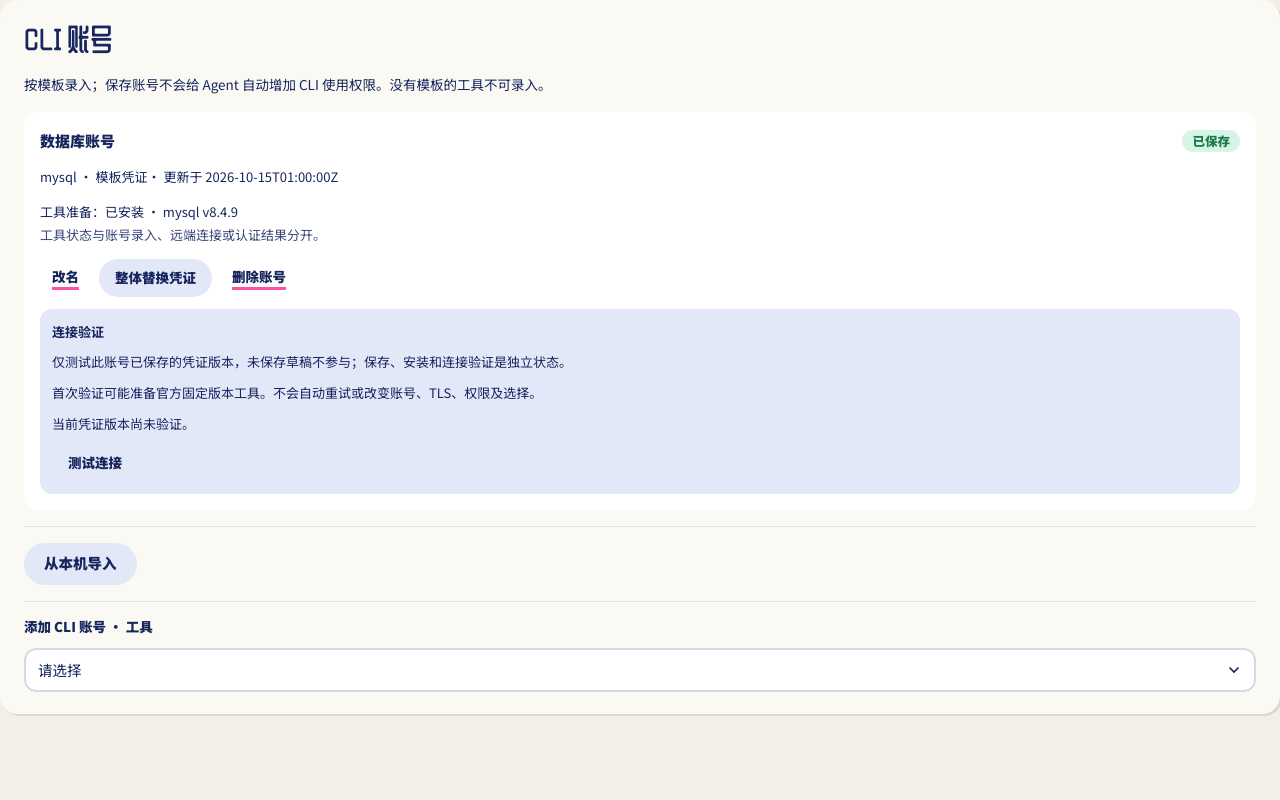
五工具手动验证正式HTTP fixture › 账号替换草稿不参与测试，测试失败保留秘密草稿和保存状态
Expected: the text "当前凭证版本尚未验证。" is shown, [52,416,195,432]
Click the button "整体替换凭证" at [156, 278], box [99,259,212,297]
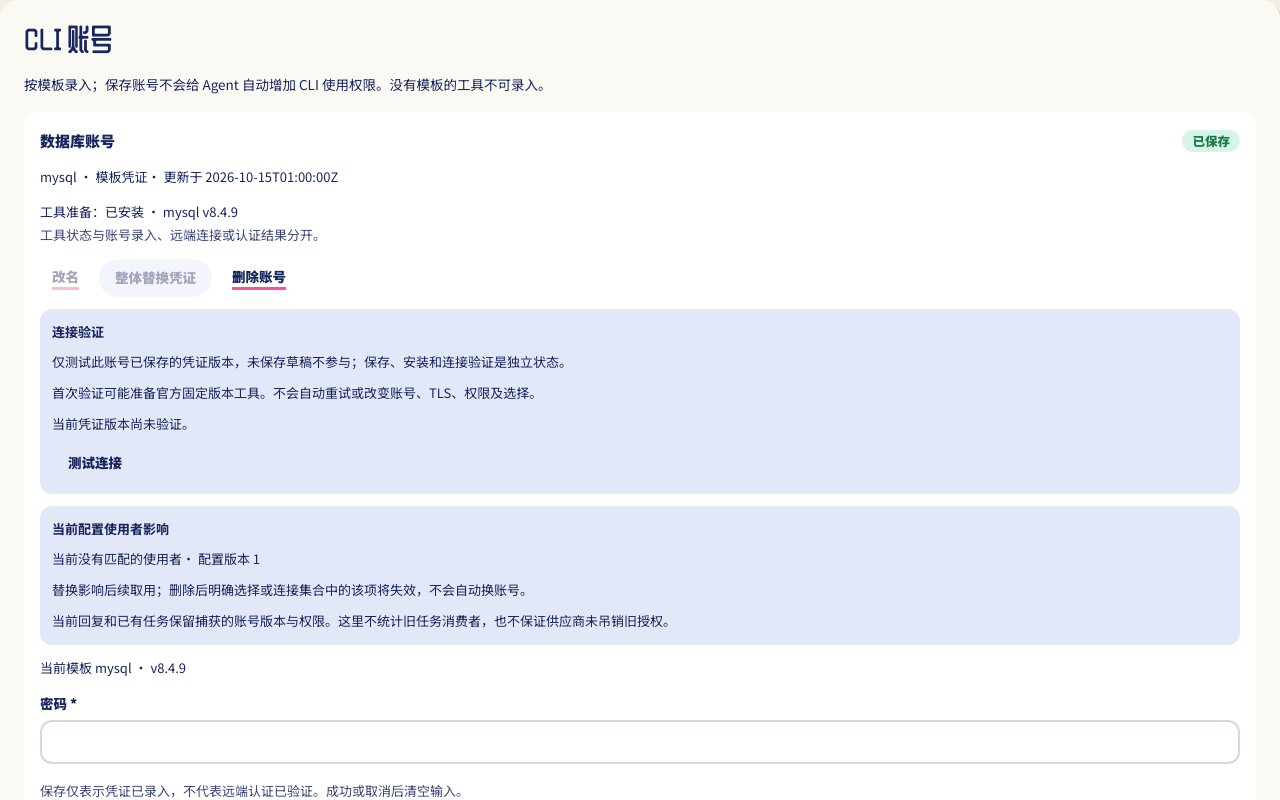
Type "synthetic-unsaved-password" into the password field labelled "密码 *" at [640, 742], box [40,720,1240,764]
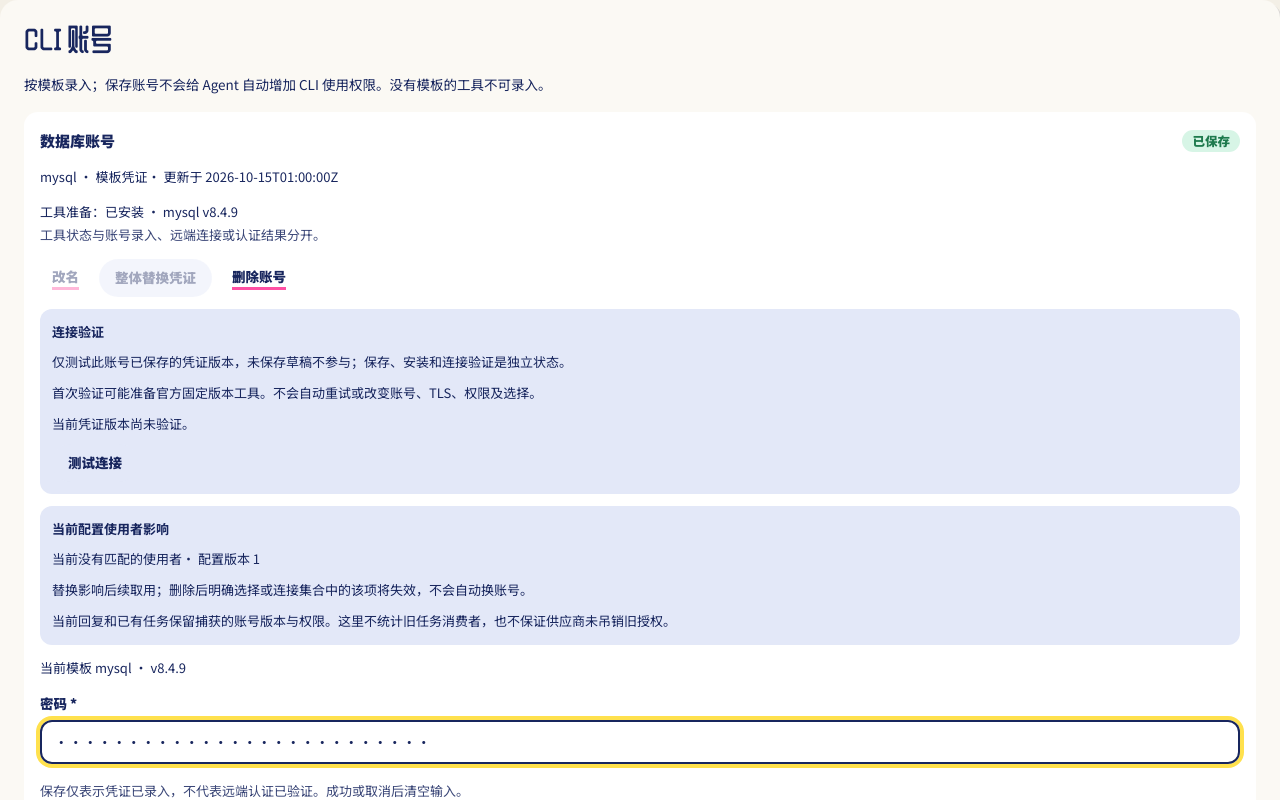
Click the button "测试连接" at [95, 463], box [52,444,138,482]
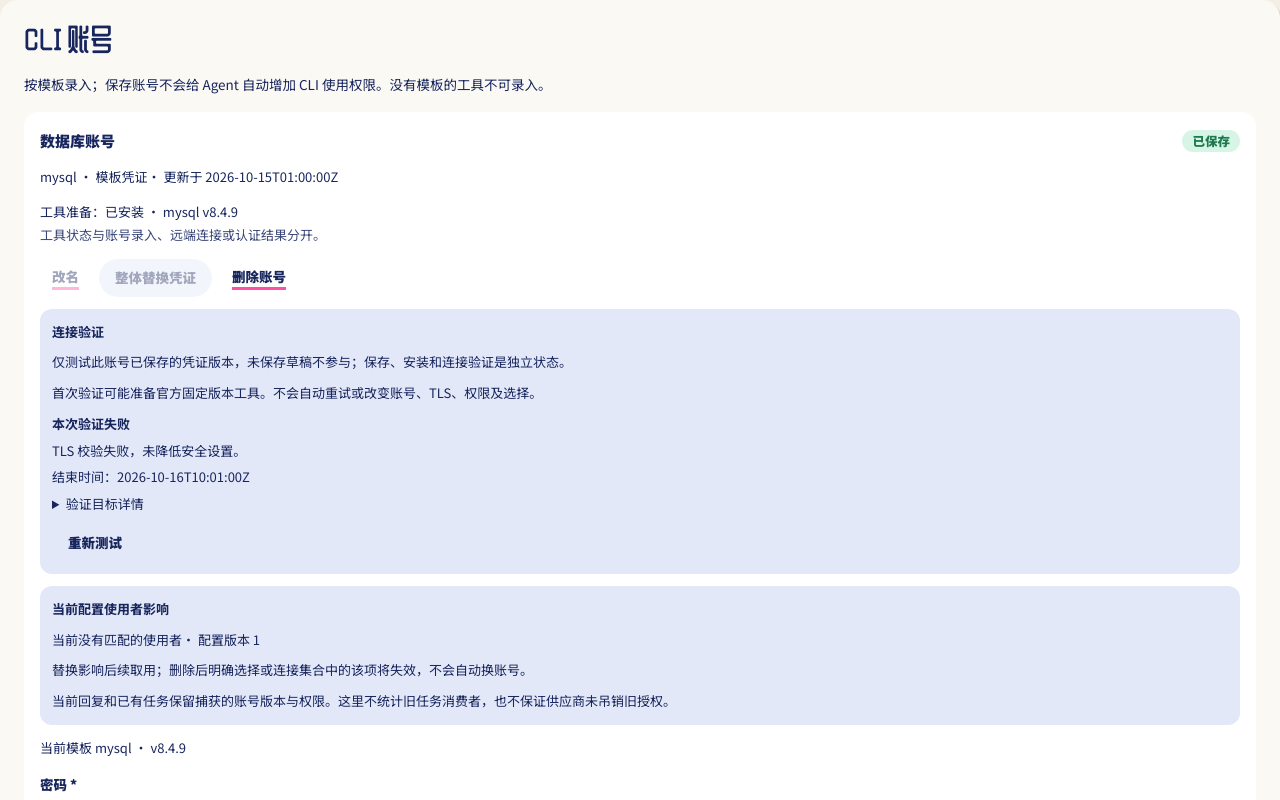
Expected: the text "已保存" is shown, [1182,130,1240,152]
Expected: the text "TLS 校验失败，未降低安全设置。" is shown, [52,443,246,459]
